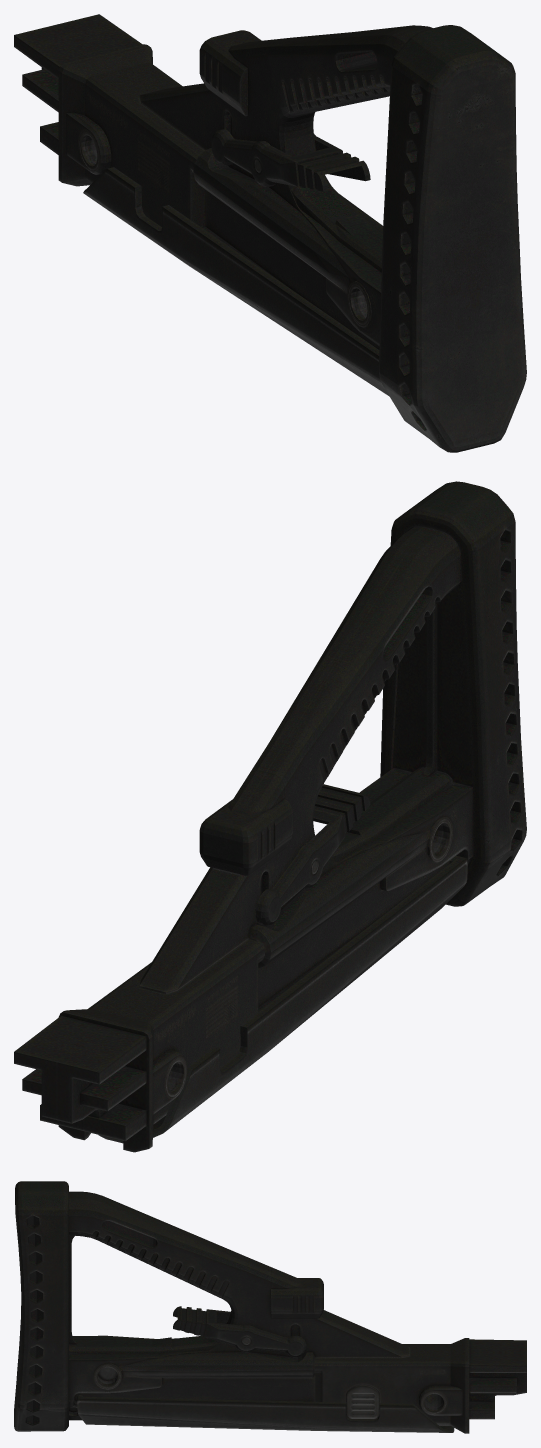
3 views of the same model, one above another, from view 1: azimuth 30°, elevation 25°; view 2: azimuth 150°, elevation 25°; view 3: azimuth 270°, elevation 25° (orthographic). The views are drawn at different scales.
Parts seen in each view (by area): view 1: TW_6087e2a5232e5a31c233d552_PZ_Import; view 2: TW_6087e2a5232e5a31c233d552_PZ_Import; view 3: TW_6087e2a5232e5a31c233d552_PZ_Import.
Part boxes in pixels (bbox=[...]): TW_6087e2a5232e5a31c233d552_PZ_Import: bbox=[14, 14, 526, 452]; TW_6087e2a5232e5a31c233d552_PZ_Import: bbox=[14, 481, 526, 1152]; TW_6087e2a5232e5a31c233d552_PZ_Import: bbox=[14, 1181, 526, 1433].
Bounding box in the file's own units: 0.0241 × 0.1554 × 0.081.
Materials: 1 (1 with a texture image).
